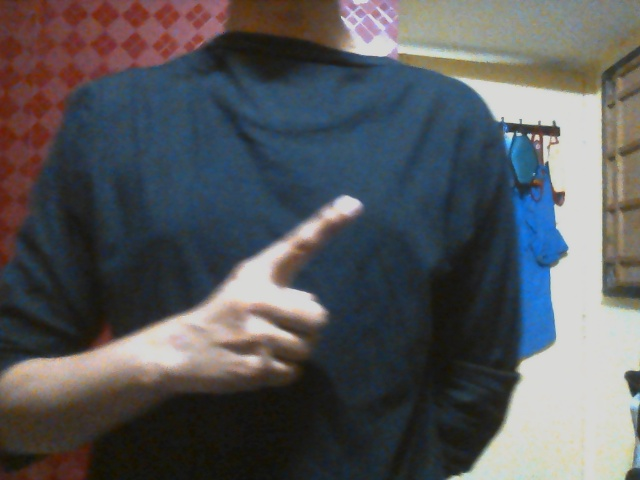I: (181, 194, 365, 395)
